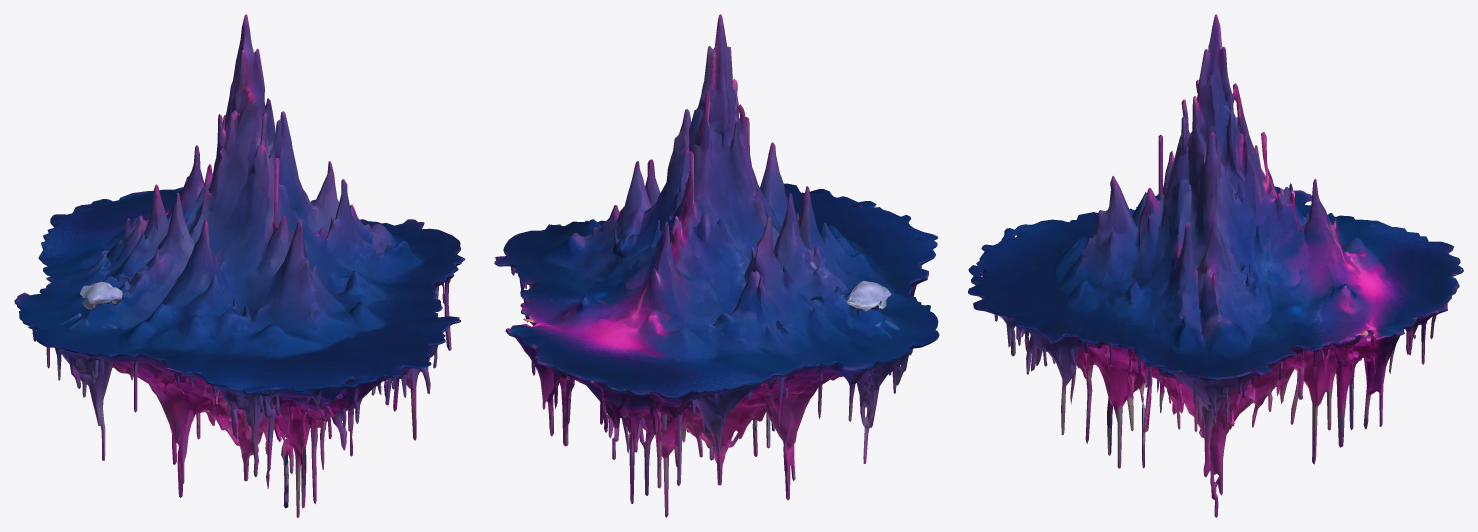
The model's file is outer-shoal-east-generated-2026-05-17T21-05-06-397Z.medium.glb.
3 views of the same model, side by side, from view 1: azimuth 30°, elevation 25°; view 2: azimuth 150°, elevation 25°; view 3: azimuth 270°, elevation 25° (orthographic). The views are drawn at different scales.
Parts seen in each view (by area): view 1: temp_mesh.ply; view 2: temp_mesh.ply; view 3: temp_mesh.ply.
Part boxes in pixels (bbox=[...]): temp_mesh.ply: bbox=[14, 14, 465, 517]; temp_mesh.ply: bbox=[494, 14, 939, 517]; temp_mesh.ply: bbox=[968, 14, 1463, 517].
Size of the model in its own units: 1.85 by 1.98 by 1.96.
1 material, 1 textured.
